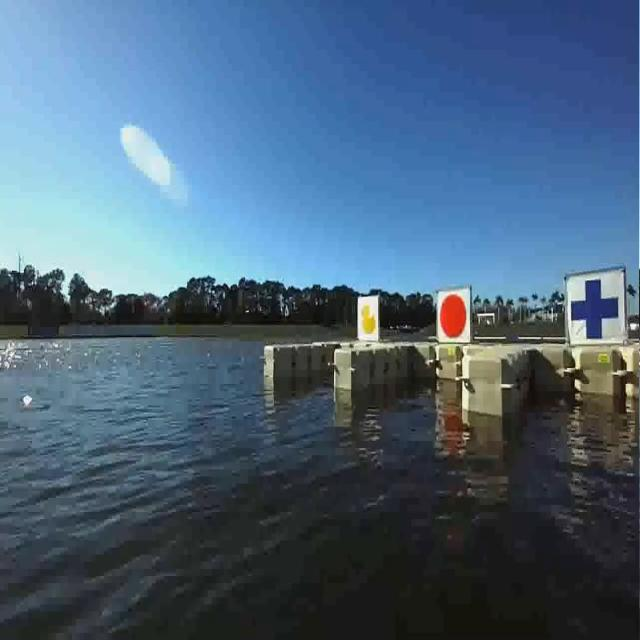blue-cross: (562, 275, 625, 351)
red-dot: (436, 286, 470, 345)
yellow-duck: (355, 296, 378, 344)
